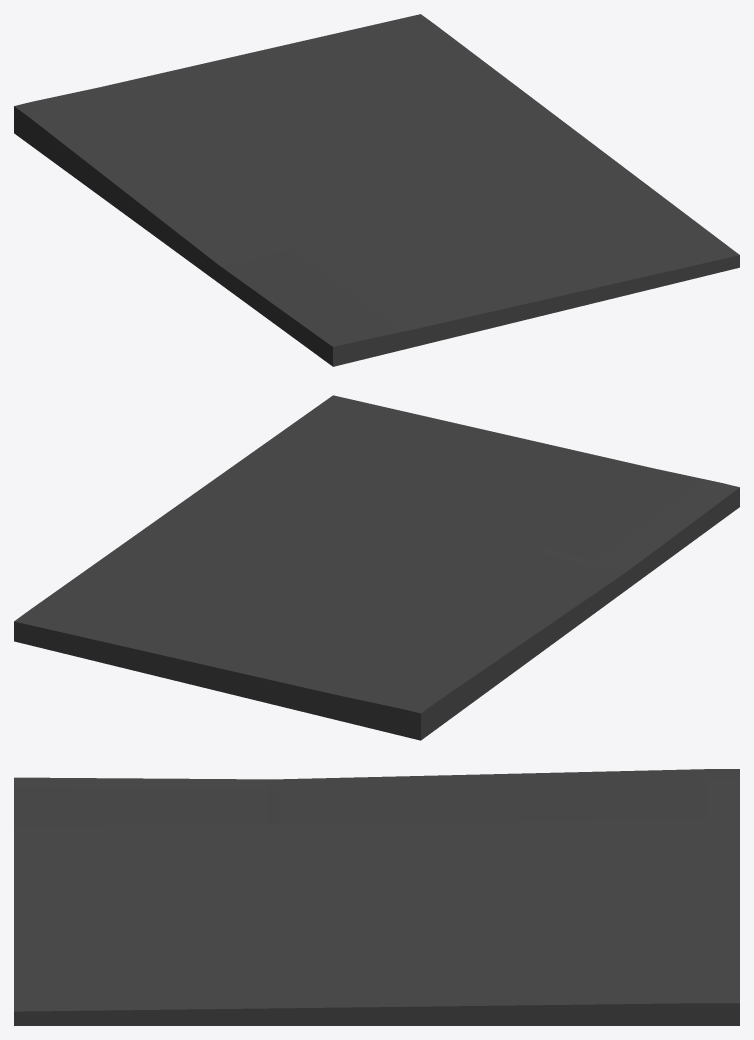
3 renders of one model, top to bottom at view 1: azimuth 30°, elevation 25°; view 2: azimuth 150°, elevation 25°; view 3: azimuth 270°, elevation 25°, orthographic. The views are drawn at different scales.
Parts seen in each view (by area): view 1: Base; view 2: Base; view 3: Base.
Part boxes in pixels (x1,y1,x2,y2): Base: (14,14,739,366); Base: (14,395,739,740); Base: (14,769,739,1025).
Size of the model in its own units: 250 by 15.96 by 340.
